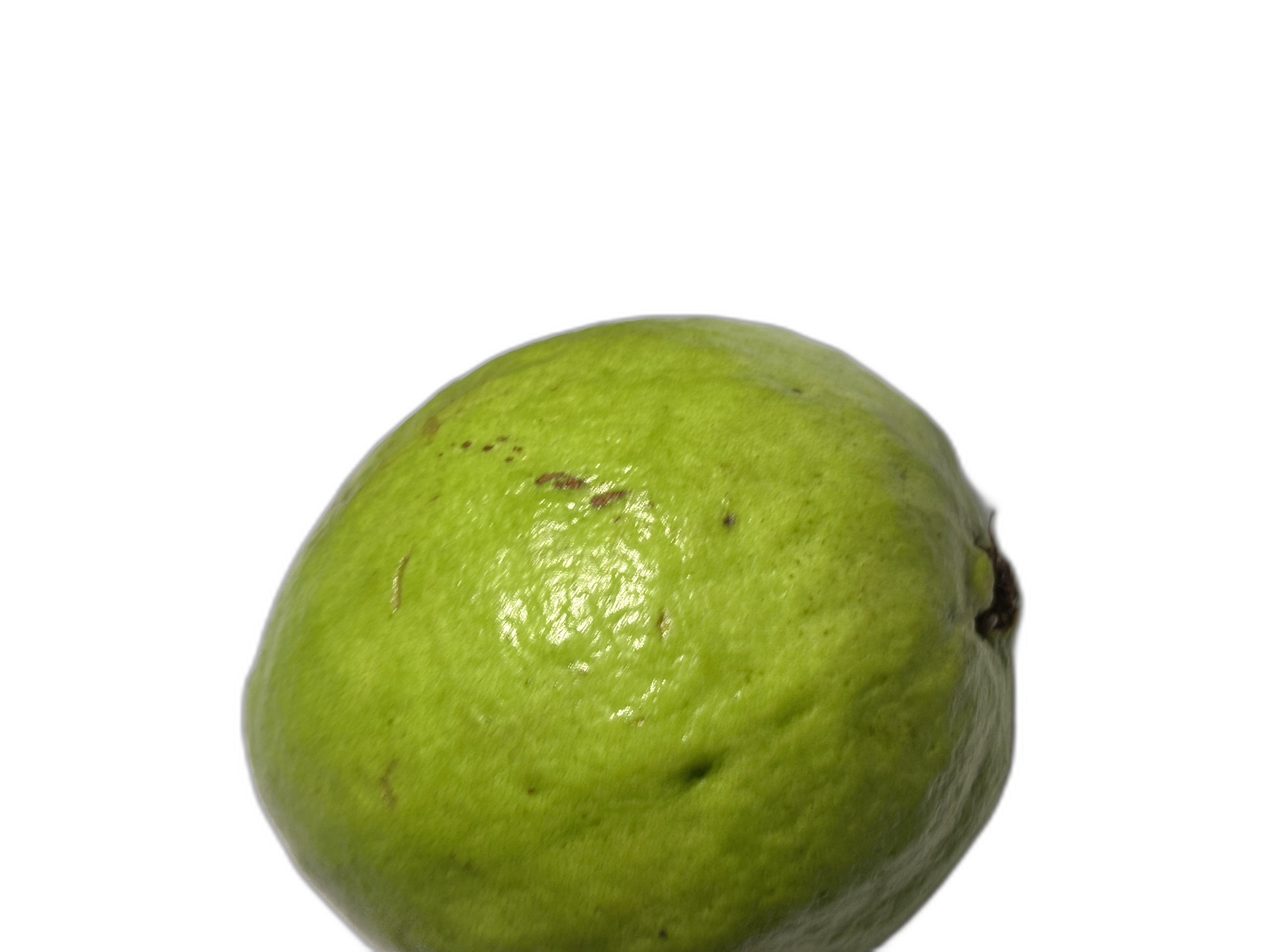guava: (167, 130, 1024, 928)
